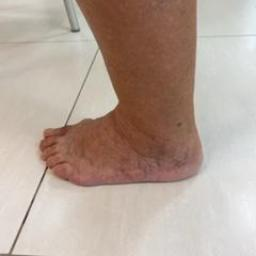Lateral View -Left Foot-: (21, 74, 225, 204)
